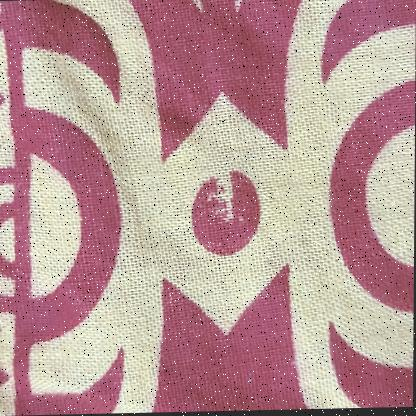spot: (215, 177, 244, 233)
